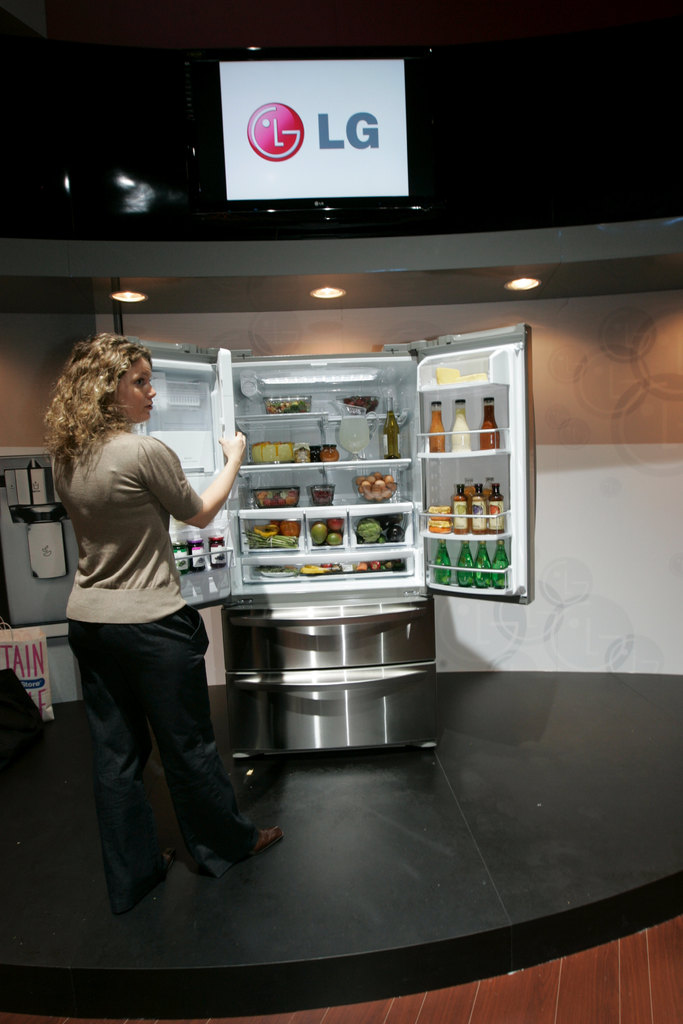handle: (235, 664, 426, 700), (229, 604, 421, 630)
refrigerator door: (421, 361, 529, 596), (142, 343, 236, 600), (226, 656, 437, 745), (225, 603, 435, 667)
